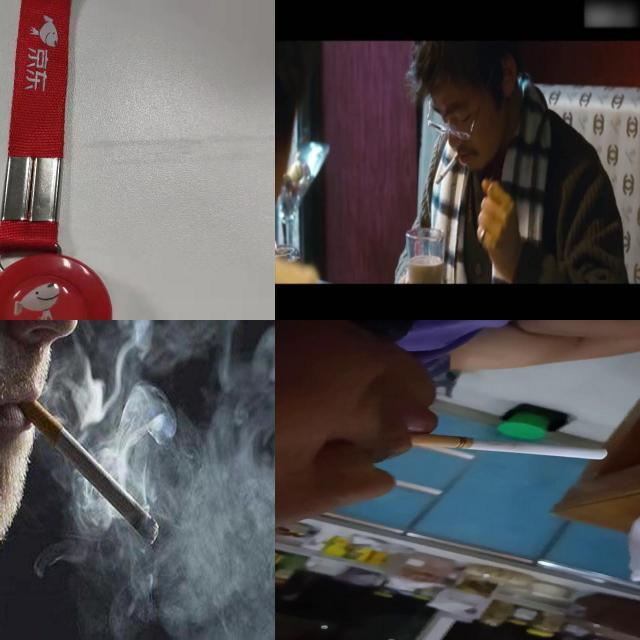cigarette: (22, 395, 162, 548), (410, 434, 610, 460), (434, 151, 462, 186)
